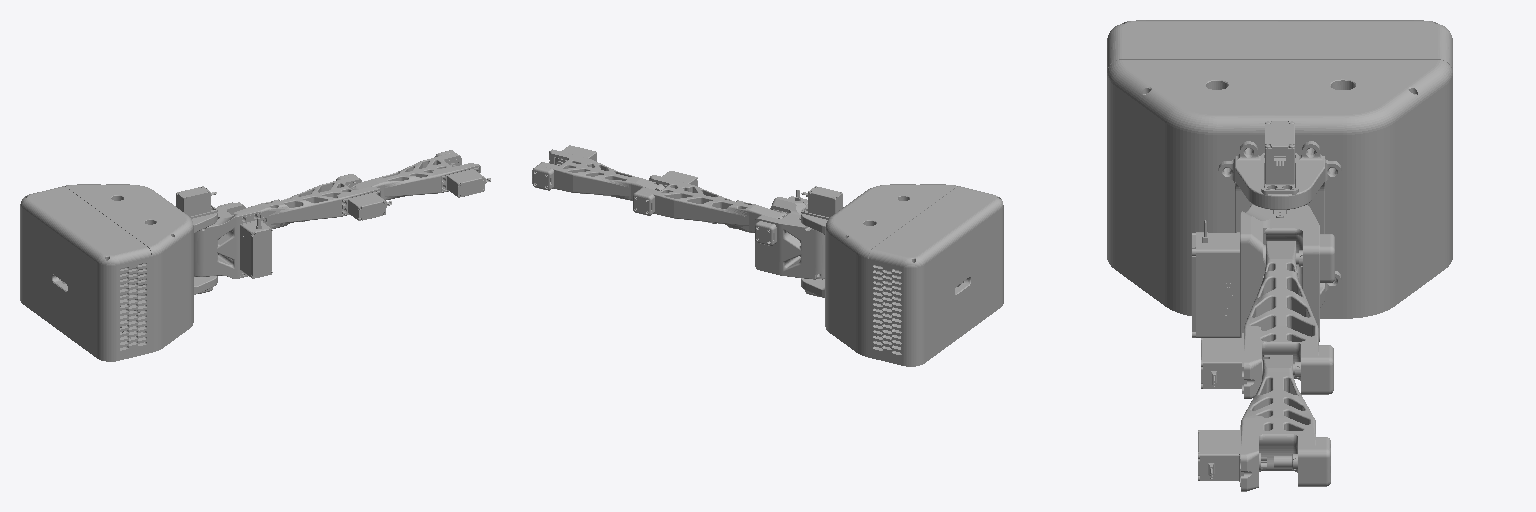
robot.urdf — WDD2_arm:
<?xml version="1.0" ?>
<!--
  WDD2 pick-and-place arm - plain URDF (converted from the fusion2urdf .xacro)

  Changes from the exported file:
  - Plain URDF (no xacro includes), so Pinocchio and the viewer can load it directly
  - Joints renamed: Revolute 1-4 -> base, shoulder, elbow, wrist
  - Shoulder axis flipped (-X -> +X) and its limits swapped/negated, so that for
    shoulder, elbow and wrist a POSITIVE angle lifts the arm (same convention)
  - Effort and velocity limits set from the servo datasheets (were 100/100 placeholders)
  - A fixed "world" link added: rotates the model +90 deg about X, because Fusion's
    "up" is Y while URDF expects Z up. The Z offset (WORLD_Z) still needs setting so
    the bottom of the base sits on the floor.
  - Mesh paths made relative (../meshes/...) instead of package:// (ROS only)

  Place this file in:  WDD2_URDF_Export_description/urdf/
  Meshes expected in:  WDD2_URDF_Export_description/meshes/
-->
<robot name="WDD2_arm">

<material name="silver">
  <color rgba="0.700 0.700 0.700 1.000"/>
</material>

<link name="world"/>

<joint name="world_to_base" type="fixed">
  <!-- rpy: Fusion Y-up -> URDF Z-up (roll 90 deg), then turned -90 deg (yaw) so the
       arm points along +X at zero angles. xyz: puts the base rotation axis at the origin.
       The last value (0.0) is WORLD_Z: raise it until the base sits on the floor. -->
  <origin xyz="0.475 0.029124 0.0641" rpy="1.5708 0 -1.5708"/>
  <parent link="world"/>
  <child link="base_link"/>
</joint>

<link name="base_link">
  <inertial>
    <origin xyz="0.029133051866286376 0.00940720014332494 0.5944684988914619" rpy="0 0 0"/>
    <mass value="2.542636799630123"/>
    <inertia ixx="0.017445" iyy="0.022461" izz="0.018074" ixy="-2e-06" iyz="0.000126" ixz="1e-06"/>
  </inertial>
  <visual>
    <origin xyz="0 0 0" rpy="0 0 0"/>
    <geometry>
      <mesh filename="../meshes/base_link.stl" scale="0.001 0.001 0.001"/>
    </geometry>
    <material name="silver"/>
  </visual>
  <collision>
    <origin xyz="0 0 0" rpy="0 0 0"/>
    <geometry>
      <mesh filename="../meshes/base_link.stl" scale="0.001 0.001 0.001"/>
    </geometry>
  </collision>
</link>

<link name="turntable_link">
  <inertial>
    <origin xyz="0.010354867246820752 0.03485333860242344 -0.041211933673383605" rpy="0 0 0"/>
    <mass value="0.4569441635396091"/>
    <inertia ixx="0.000468" iyy="0.000512" izz="0.000437" ixy="5e-06" iyz="-5e-06" ixz="7.9e-05"/>
  </inertial>
  <visual>
    <origin xyz="-0.029124 0.028703 -0.475" rpy="0 0 0"/>
    <geometry>
      <mesh filename="../meshes/turntable_link_1.stl" scale="0.001 0.001 0.001"/>
    </geometry>
    <material name="silver"/>
  </visual>
  <collision>
    <origin xyz="-0.029124 0.028703 -0.475" rpy="0 0 0"/>
    <geometry>
      <mesh filename="../meshes/turntable_link_1.stl" scale="0.001 0.001 0.001"/>
    </geometry>
  </collision>
</link>

<link name="upper_arm_link">
  <inertial>
    <origin xyz="0.018912413132144385 0.0014197425789116286 -0.1204929417639426" rpy="0 0 0"/>
    <mass value="0.22910498645177246"/>
    <inertia ixx="0.000777" iyy="0.00086" izz="0.000108" ixy="-0.0" iyz="0.0" ixz="6.5e-05"/>
  </inertial>
  <visual>
    <origin xyz="-0.016399 -0.024497 -0.416755" rpy="0 0 0"/>
    <geometry>
      <mesh filename="../meshes/upper_arm_link_1.stl" scale="0.001 0.001 0.001"/>
    </geometry>
    <material name="silver"/>
  </visual>
  <collision>
    <origin xyz="-0.016399 -0.024497 -0.416755" rpy="0 0 0"/>
    <geometry>
      <mesh filename="../meshes/upper_arm_link_1.stl" scale="0.001 0.001 0.001"/>
    </geometry>
  </collision>
</link>

<link name="forearm_link">
  <inertial>
    <origin xyz="0.01851922020392568 0.0014250667393331667 -0.10555347876998847" rpy="0 0 0"/>
    <mass value="0.20968014247381014"/>
    <inertia ixx="0.000416" iyy="0.000501" izz="0.000105" ixy="-0.0" iyz="0.0" ixz="4.2e-05"/>
  </inertial>
  <visual>
    <origin xyz="-0.01925 -0.024531 -0.241755" rpy="0 0 0"/>
    <geometry>
      <mesh filename="../meshes/forearm_link_1.stl" scale="0.001 0.001 0.001"/>
    </geometry>
    <material name="silver"/>
  </visual>
  <collision>
    <origin xyz="-0.01925 -0.024531 -0.241755" rpy="0 0 0"/>
    <geometry>
      <mesh filename="../meshes/forearm_link_1.stl" scale="0.001 0.001 0.001"/>
    </geometry>
  </collision>
</link>

<link name="gripper_link">
  <inertial>
    <origin xyz="0.008338893538457206 0.007155203003616339 -0.06374679829400297" rpy="0 0 0"/>
    <mass value="0.18542696815557067"/>
    <inertia ixx="0.000321" iyy="0.000358" izz="9.4e-05" ixy="4e-06" iyz="-1e-05" ixz="3e-06"/>
  </inertial>
  <visual>
    <origin xyz="-0.022 -0.024565 -0.096756" rpy="0 0 0"/>
    <geometry>
      <mesh filename="../meshes/gripper_link_1.stl" scale="0.001 0.001 0.001"/>
    </geometry>
    <material name="silver"/>
  </visual>
  <collision>
    <origin xyz="-0.022 -0.024565 -0.096756" rpy="0 0 0"/>
    <geometry>
      <mesh filename="../meshes/gripper_link_1.stl" scale="0.001 0.001 0.001"/>
    </geometry>
  </collision>
</link>

<!-- Base: DS3240-270-FB, 40 kg.cm (about 3.9 Nm), 0.12 s/60 deg (about 8.7 rad/s)
     Limits set to +/-68 deg (were +/-70): measured hard stops at -83.6 / +72.9 deg
     (AS5600 calibration, Oct 2026), so +68 sits about 5 deg inside the right stop. -->
<joint name="base" type="revolute">
  <origin xyz="0.029124 -0.028703 0.475" rpy="0 0 0"/>
  <parent link="base_link"/>
  <child link="turntable_link"/>
  <axis xyz="0.0 -1.0 0.0"/>
  <limit lower="-1.186824" upper="1.186824" effort="3.9" velocity="8.7"/>
</joint>

<!-- Shoulder: DS5180 at 8.0 V, about 100 kg.cm (about 9.8 Nm), about 0.2 s/60 deg (about 5.2 rad/s)
     Axis flipped to +X (was -X): limits were [-75, +30] deg, now [-30, +75] deg, positive = up -->
<joint name="shoulder" type="revolute">
  <origin xyz="-0.012725 0.0532 -0.058245" rpy="0 0 0"/>
  <parent link="turntable_link"/>
  <child link="upper_arm_link"/>
  <axis xyz="1.0 0.0 0.0"/>
  <limit lower="-0.523599" upper="1.308997" effort="9.8" velocity="5.2"/>
</joint>

<!-- Elbow: DS3240, 45 kg.cm at 6.8 V (about 4.4 Nm), 0.17 s/60 deg (about 6.2 rad/s) -->
<joint name="elbow" type="revolute">
  <origin xyz="0.002851 3.4e-05 -0.175" rpy="0 0 0"/>
  <parent link="upper_arm_link"/>
  <child link="forearm_link"/>
  <axis xyz="1.0 0.0 0.0"/>
  <limit lower="-1.570796" upper="1.570796" effort="4.4" velocity="6.2"/>
</joint>

<!-- Wrist: DS3225, 25 kg.cm at 6.8 V (about 2.45 Nm), 0.13 s/60 deg (about 8.0 rad/s)
     Upper limit lowered from +115 deg to +97 deg: the measured hard stop is at +102 deg
     (AS5600 calibration, Oct 2026), so the limit sits 5 deg inside it. -->
<joint name="wrist" type="revolute">
  <origin xyz="0.00275 3.4e-05 -0.144999" rpy="0 0 0"/>
  <parent link="forearm_link"/>
  <child link="gripper_link"/>
  <axis xyz="1.0 0.0 0.0"/>
  <limit lower="-1.48353" upper="1.692969" effort="2.45" velocity="8.0"/>
</joint>

<!-- Tool centre point (TCP): the gripping point, 133 mm beyond the wrist joint
     along the gripper (the arm points along -Z in the link frames). No mesh, no mass. -->
<link name="tcp"/>

<joint name="wrist_to_tcp" type="fixed">
  <origin xyz="0 0 -0.133" rpy="0 0 0"/>
  <parent link="gripper_link"/>
  <child link="tcp"/>
</joint>

</robot>

--- What the picture shows (computed from the rendered views, not written in the file) ---
Views: 3 orthographic renders of the robot side by side, from view 1: azimuth 30°, elevation 25°; view 2: azimuth 150°, elevation 25°; view 3: azimuth 270°, elevation 25°.
Robot: WDD2_arm — 7 links, 6 joints (4 revolute, 2 fixed); root link world; default pose: all joints at 0.
Visible links, largest first — view 1: base_link, turntable_link, upper_arm_link, forearm_link; view 2: base_link, turntable_link, upper_arm_link, forearm_link; view 3: base_link, turntable_link, upper_arm_link, forearm_link.
Boxes of the visible links, box(x1,y1,x2,y2) form: base_link: box(20, 184, 217, 361); turntable_link: box(194, 202, 272, 278); upper_arm_link: box(234, 174, 391, 228); forearm_link: box(352, 150, 490, 200); base_link: box(801, 184, 1003, 366); turntable_link: box(755, 190, 824, 279); upper_arm_link: box(633, 171, 784, 232); forearm_link: box(532, 145, 664, 200); base_link: box(1107, 20, 1452, 318); turntable_link: box(1192, 204, 1334, 341); upper_arm_link: box(1201, 241, 1333, 398); forearm_link: box(1198, 355, 1330, 491).
Size in the robot's own frame: 0.6087 by 0.23 by 0.1499 metres.
Meshes: 5 distinct files referenced, 4 mesh visuals loaded (4 binary STL); not drawn: 1 (reference not matched to a file when rendering).
